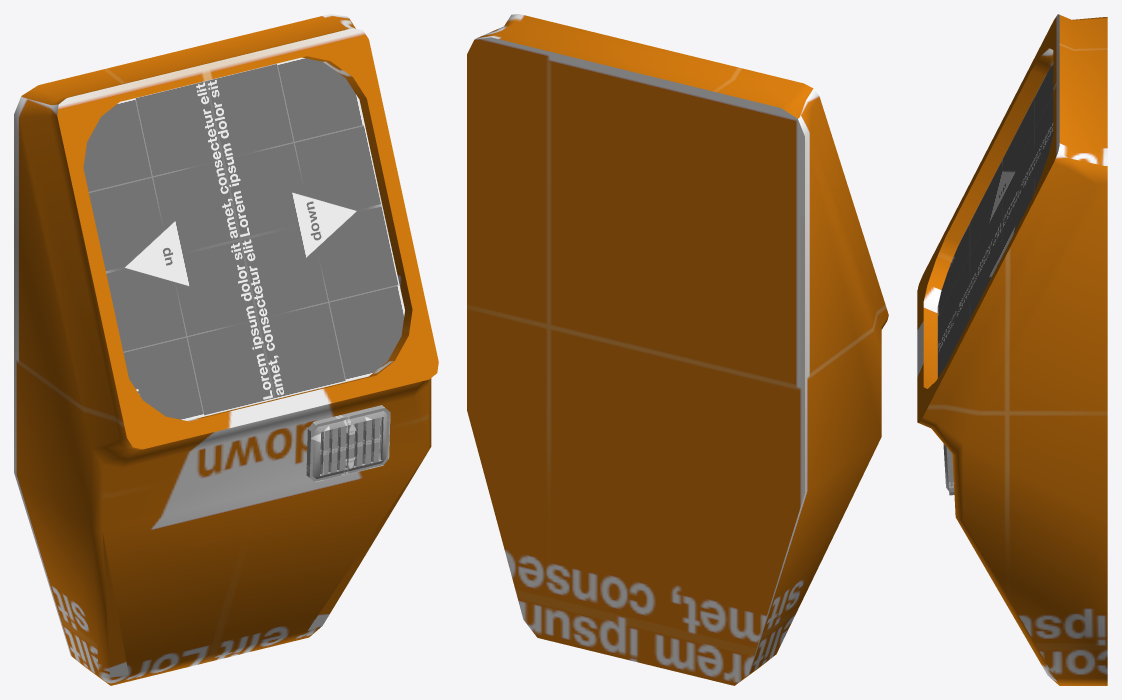
Rendered from door_lock.glb.
3 views of the same model, side by side, from view 1: azimuth 30°, elevation 25°; view 2: azimuth 150°, elevation 25°; view 3: azimuth 270°, elevation 25° (orthographic). The views are drawn at different scales.
Visible parts, largest first — view 1: door_lock; view 2: door_lock; view 3: door_lock.
Boxes of the visible parts, x1,y1,x2,y2 form: door_lock: (14,14,438,685); door_lock: (467,14,888,685); door_lock: (917,14,1107,685).
Size of what is drawn, in the model's own units: 0.12 by 0.2018 by 0.0622.
3 materials, 3 textured.
